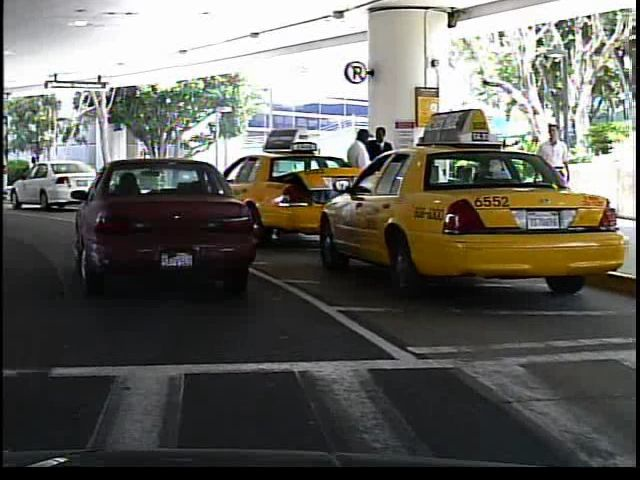person: (534, 117, 574, 230), (342, 126, 375, 227), (366, 125, 396, 222), (20, 151, 45, 194)
